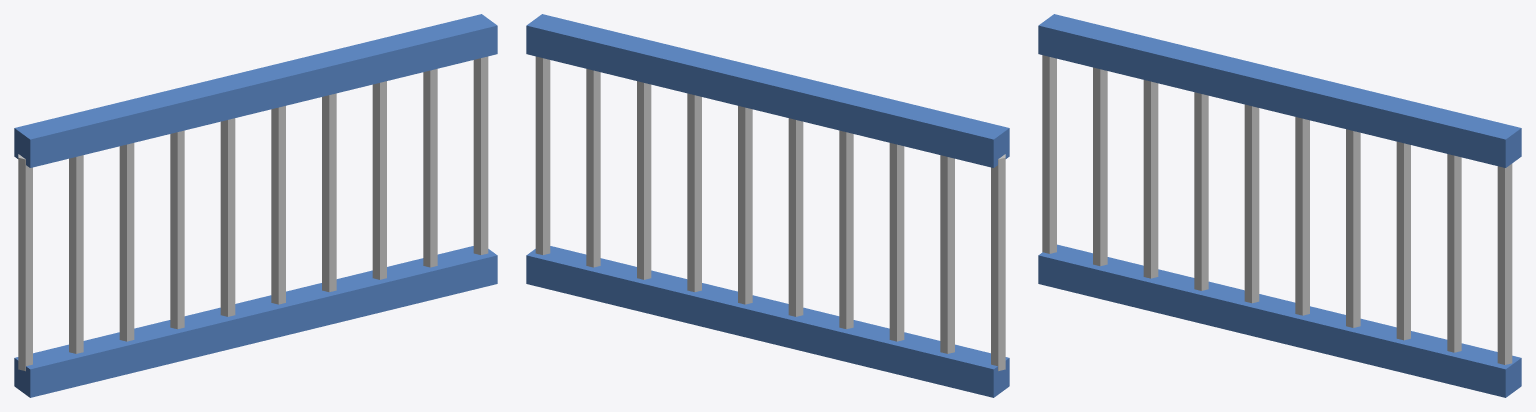
File: Cell.fbx
3 views of the same model, side by side, from view 1: azimuth 30°, elevation 25°; view 2: azimuth 150°, elevation 25°; view 3: azimuth 330°, elevation 25° (orthographic).
Parts seen in each view (by area): view 1: Top, Bottom, Cylinder_2, Cylinder_4, Cylinder_9, Cylinder_0, Cylinder_1, Cylinder_3, Cylinder_6, Cylinder_5, Cylinder_8, Cylinder_7; view 2: Top, Bottom, Cylinder_2, Cylinder_4, Cylinder_9, Cylinder_0, Cylinder_1, Cylinder_3, Cylinder_6, Cylinder_5, Cylinder_8, Cylinder_7; view 3: Top, Bottom, Cylinder_9, Cylinder_2, Cylinder_4, Cylinder_0, Cylinder_5, Cylinder_3, Cylinder_6, Cylinder_7, Cylinder_1, Cylinder_8.
Part boxes in pixels (x1,y1,x2,y2): Top: (14,14,497,167); Bottom: (14,246,497,397); Cylinder_2: (119,143,134,341); Cylinder_4: (220,118,235,316); Cylinder_9: (473,56,488,254); Cylinder_0: (18,154,32,371); Cylinder_1: (69,155,83,353); Cylinder_3: (170,130,184,329); Cylinder_6: (322,93,336,292); Cylinder_5: (271,106,285,304); Cylinder_8: (423,69,437,267); Cylinder_7: (372,81,386,279); Top: (526,14,1009,167); Bottom: (526,246,1009,397); Cylinder_2: (889,143,904,341); Cylinder_4: (788,118,803,316); Cylinder_9: (535,56,550,254); Cylinder_0: (991,154,1005,371); Cylinder_1: (940,155,954,353); Cylinder_3: (839,130,853,329); Cylinder_6: (687,93,701,292); Cylinder_5: (738,106,752,304); Cylinder_8: (586,69,600,267); Cylinder_7: (637,81,651,279); Top: (1038,14,1521,167); Bottom: (1038,244,1521,397); Cylinder_9: (1497,164,1512,364); Cylinder_2: (1143,80,1158,278); Cylinder_4: (1244,104,1259,303); Cylinder_0: (1042,55,1056,253); Cylinder_5: (1295,117,1309,315); Cylinder_3: (1194,92,1208,290); Cylinder_6: (1346,129,1360,327); Cylinder_7: (1396,141,1410,340); Cylinder_1: (1093,67,1107,266); Cylinder_8: (1447,154,1461,352).
Bounding box in the file's own units: 466 × 244 × 27.
